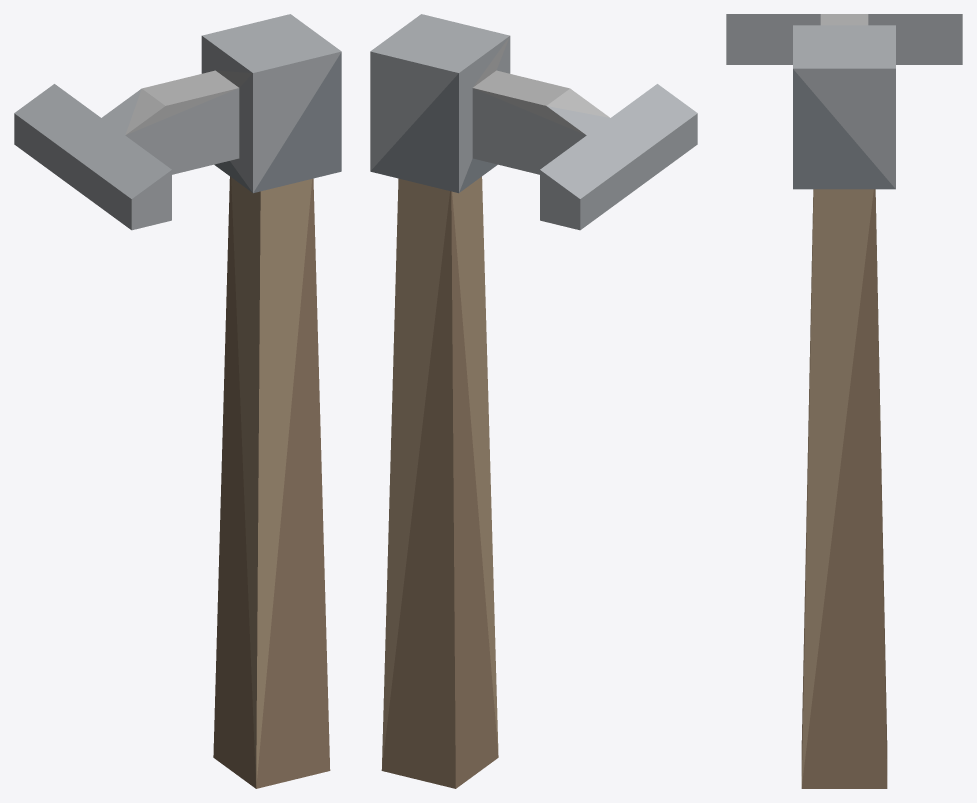
3 renders of one model, left to right at view 1: azimuth 30°, elevation 25°; view 2: azimuth 150°, elevation 25°; view 3: azimuth 270°, elevation 25°, orthographic.
Parts seen in each view (by area): view 1: model; view 2: model; view 3: model.
Part boxes in pixels (x1=…): model: x1=14, y1=14, x2=341, y2=788; model: x1=370, y1=14, x2=697, y2=788; model: x1=726, y1=14, x2=962, y2=788.
Size of the model in its own units: 0.2119 by 0.6 by 0.1773.
